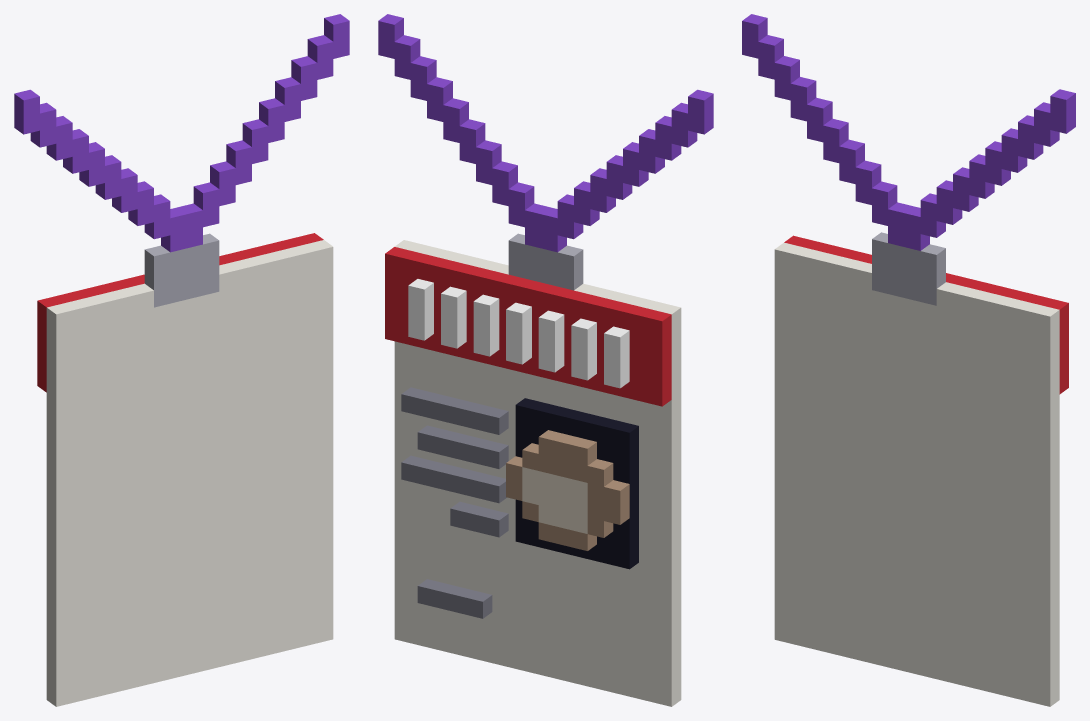
Rendered from recuerdo_08.obj.
The picture shows the model from 3 angles, left to right: view 1: azimuth 30°, elevation 25°; view 2: azimuth 150°, elevation 25°; view 3: azimuth 330°, elevation 25°; orthographic projection.
Visible parts, largest first — view 1: credencial_plastico, cordon, broche_metal, franja_rojo; view 2: credencial_plastico, franja_rojo, cordon, letras_blanco, lineas_gris, foto_foto_fondo, pluton, pluton_corazon, broche_metal, enano_gris; view 3: credencial_plastico, cordon, broche_metal, franja_rojo.
Part boxes in pixels (x1,y1,x2,y2): credencial_plastico: (46, 240, 333, 706); cordon: (14, 14, 349, 252); broche_metal: (144, 233, 219, 307); franja_rojo: (37, 233, 323, 392); credencial_plastico: (394, 240, 681, 706); franja_rojo: (385, 247, 671, 406); cordon: (378, 14, 713, 252); letras_blanco: (408, 279, 629, 388); lineas_gris: (401, 387, 508, 537); foto_foto_fondo: (515, 398, 638, 569); pluton: (506, 430, 629, 550); pluton_corazon: (522, 467, 587, 533); broche_metal: (508, 233, 583, 290); enano_gris: (417, 579, 492, 618); credencial_plastico: (774, 242, 1059, 706); cordon: (742, 14, 1075, 250); broche_metal: (872, 232, 945, 305); franja_rojo: (784, 235, 1068, 394).
Bounding box in the file's own units: 0.7 × 1.26 × 0.105.
